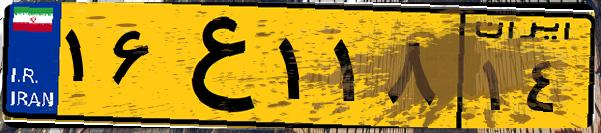1: (270, 28, 330, 110), (330, 28, 385, 110), (57, 26, 110, 100), (475, 38, 525, 113)
4: (525, 38, 570, 115)
6: (110, 28, 158, 98)
8: (385, 28, 445, 110)
ع: (158, 12, 270, 120)
